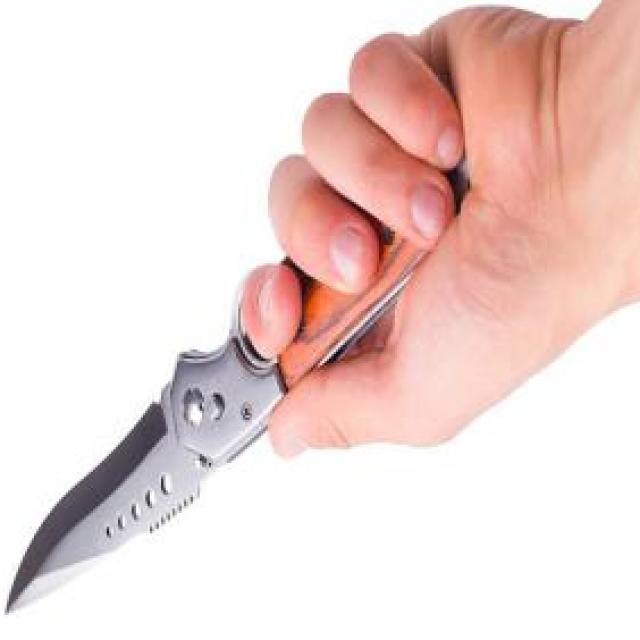knife: (7, 151, 474, 619)
